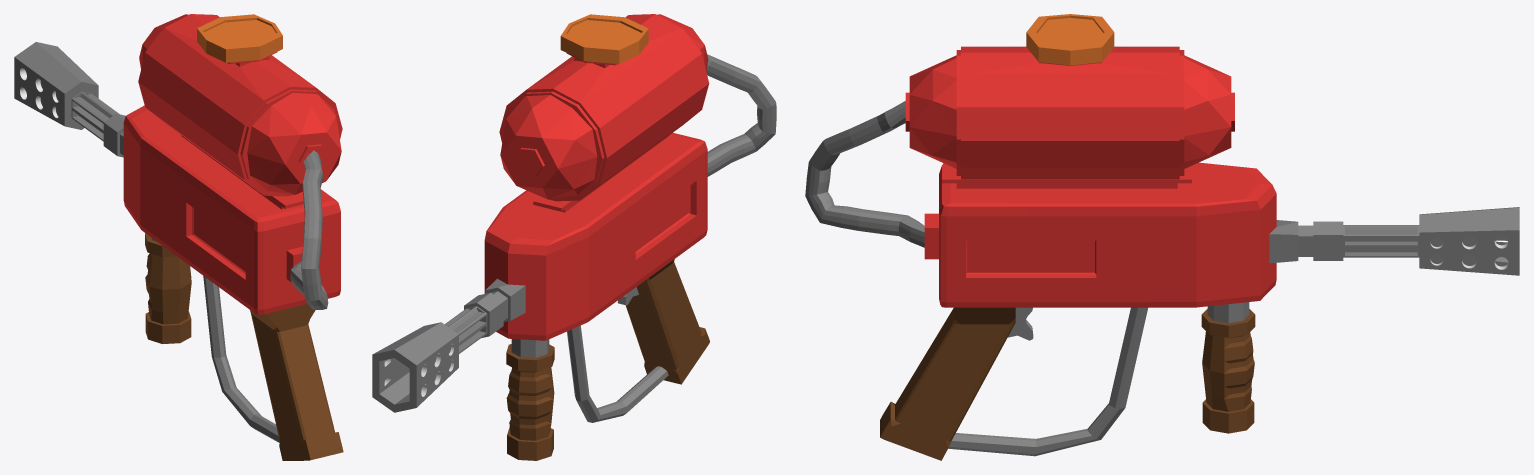
The model's file is FlameThrowerFix.fbx.
3 renders of one model, left to right at view 1: azimuth 30°, elevation 25°; view 2: azimuth 150°, elevation 25°; view 3: azimuth 270°, elevation 25°, orthographic. The views are drawn at different scales.
Visible parts, largest first — view 1: FT; view 2: FT; view 3: FT.
Boxes of the visible parts, x1=… form: FT: x1=14, y1=14, x2=343, y2=460; FT: x1=372, y1=14, x2=776, y2=460; FT: x1=805, y1=14, x2=1519, y2=460.
Bounding box in the file's own units: 353 × 1225 × 1877.
